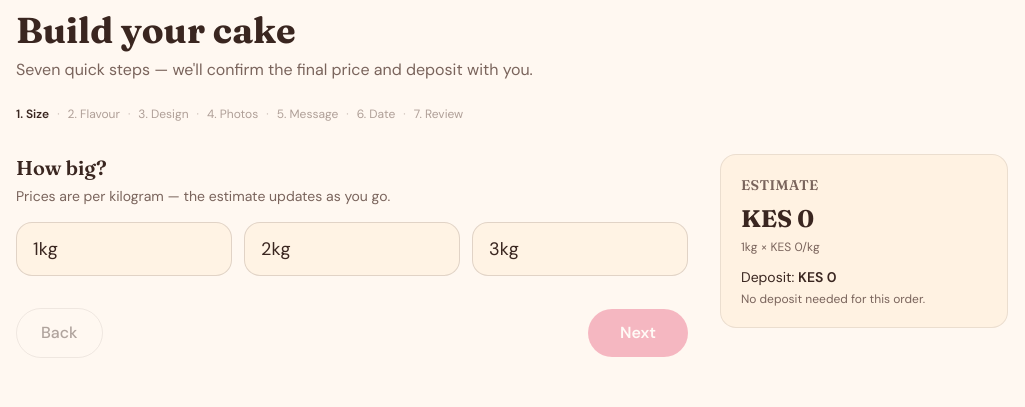
Test: CakeBuilder › step 2: renders flavours from the props, not hardcoded ones
Click the button "2kg" at (352, 249), box top-left (244, 222), bottom-right (460, 276)
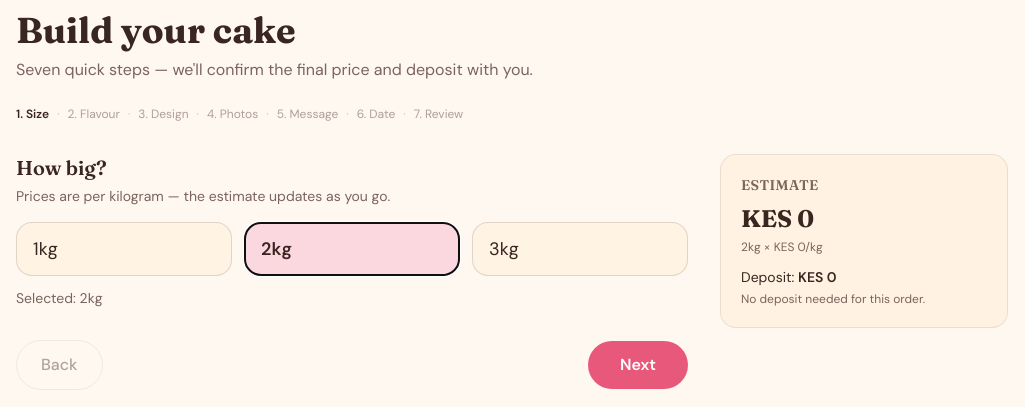
Click the button "Next" at (638, 365), box top-left (588, 341), bottom-right (688, 389)
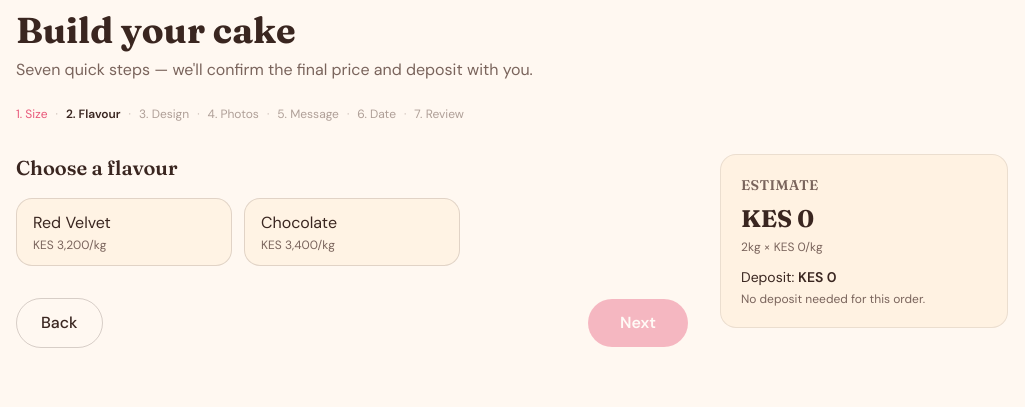
Result: the button "Red Velvet KES 3,200/kg" is shown at top-left (16, 198), bottom-right (232, 266)
Result: the button "Chocolate KES 3,400/kg" is shown at top-left (244, 198), bottom-right (460, 266)
